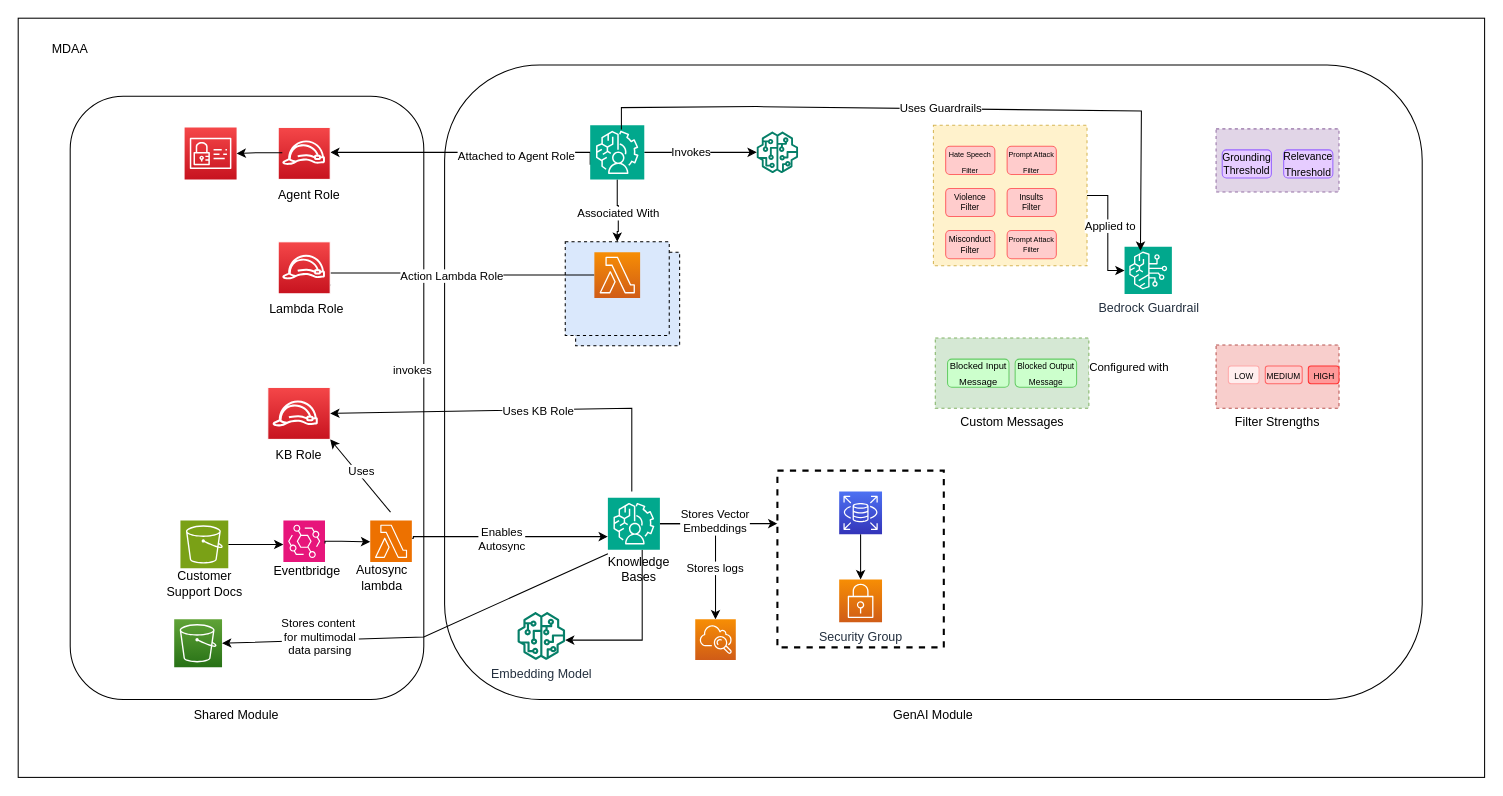
Some shapes in this 1503 by 796 pixel diagram are drawn without their labels. Here are the shapes that lost their labels. From the top down, the box of each, then its label:
(184, 126, 237, 179): Bedrock Execution Policies
(756, 131, 798, 173): Foundational Model
(1215, 128, 1339, 192): Contextual Grounding Filters
(932, 124, 1087, 266): Content Filters
(593, 251, 640, 298): Action Group Lambda
(838, 490, 882, 534): Aurora PostgreSQL with pgvector
(776, 469, 944, 648): Vector Store
(173, 618, 222, 667): Multimodal Storage Desitnation
(694, 618, 736, 660): CloudWatch Logs
